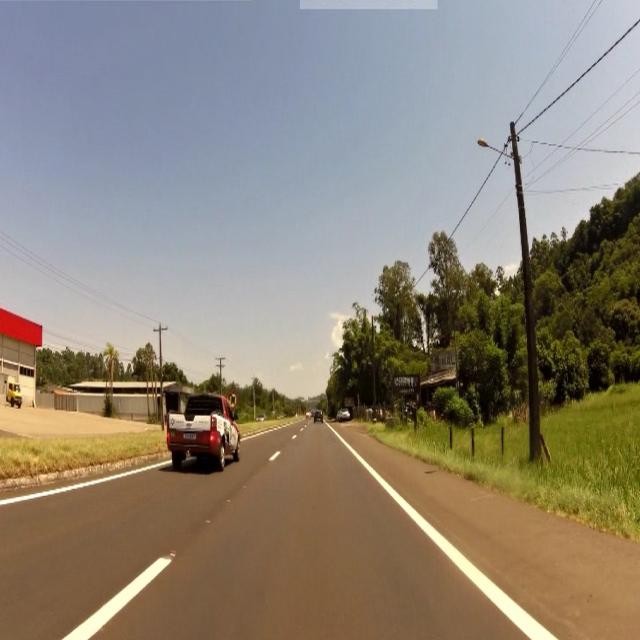R-27: (227, 392, 238, 408)
